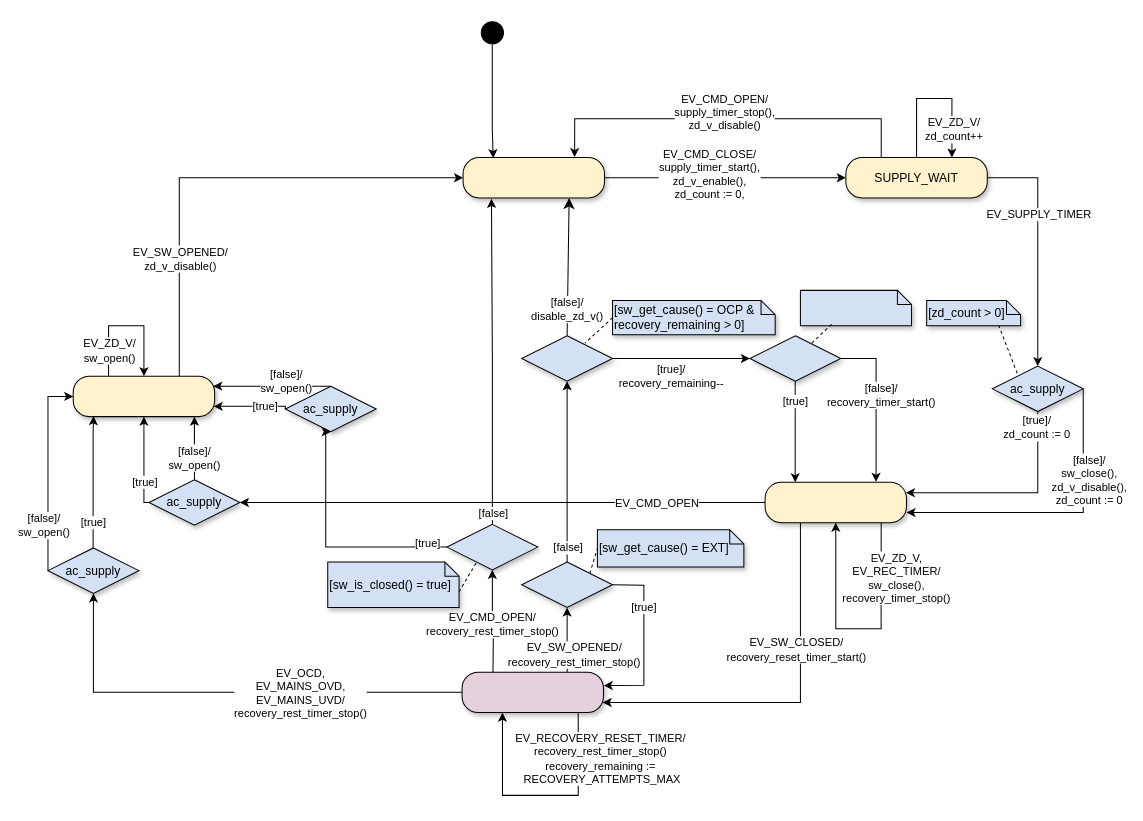
The diagram is 1143 pixels wide and 821 high, and some of its shapes have lost their labels. Here are the shapes that lost their labels. From the top down, the centre of each, then its label:
At [534,179]: "OPENED".
At [856,309]: "ac_supply& zd_v_required()".
At [144,397]: "OPEN_WAIT".
At [836,503]: "CLOSE_WAIT".
At [533,693]: "CLOSED".
